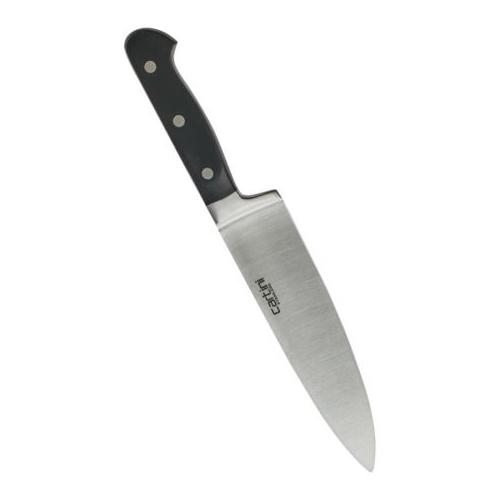knife: (127, 28, 376, 475)
